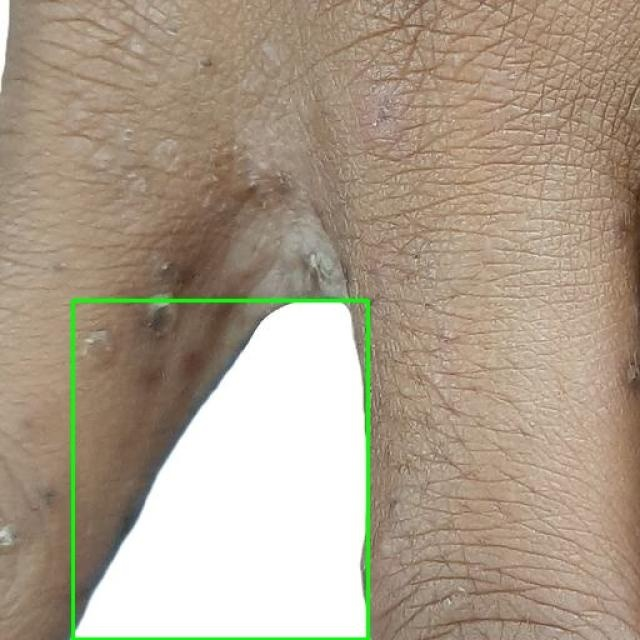Scabies: (72, 300, 368, 639)
